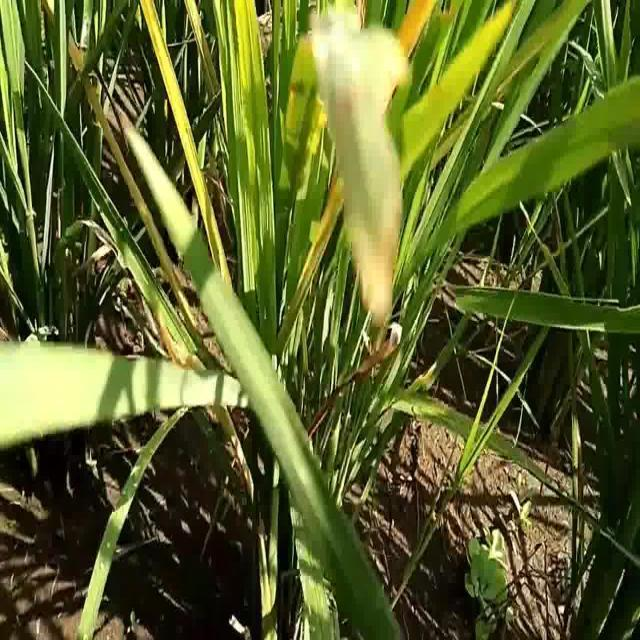Rice Tungro: (298, 6, 438, 292), (136, 1, 226, 248)
